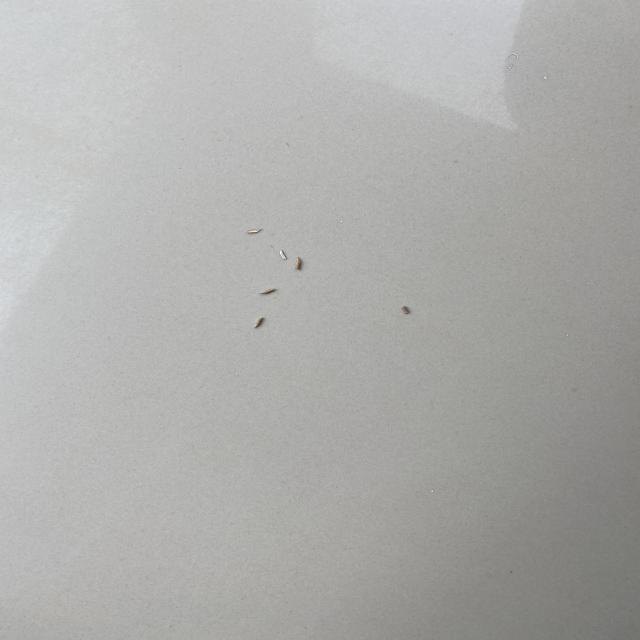Wereng: (244, 223, 266, 238), (256, 286, 283, 298), (252, 313, 269, 331), (399, 303, 414, 318), (294, 256, 307, 273), (277, 249, 290, 261)
